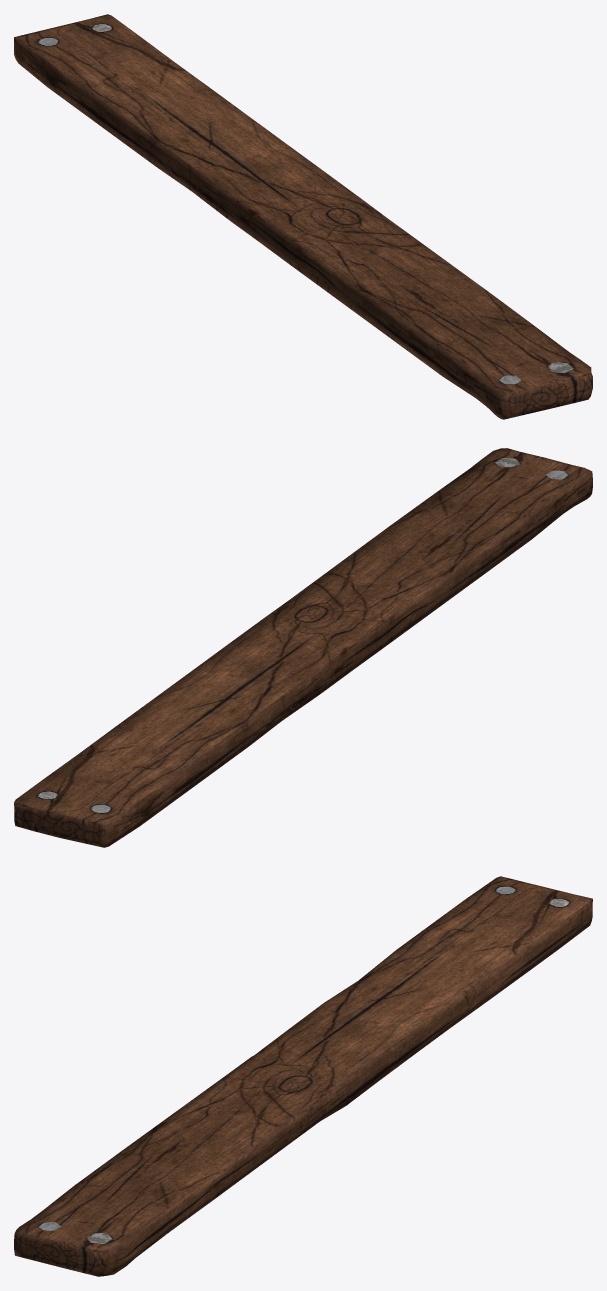
File: wood plank.gltf
3 views of the same model, one above another, from view 1: azimuth 30°, elevation 25°; view 2: azimuth 150°, elevation 25°; view 3: azimuth 330°, elevation 25° (orthographic).
Visible parts, largest first — view 1: node-0; view 2: node-0; view 3: node-0.
Part boxes in pixels (bbox=[...]): node-0: bbox=[14, 14, 592, 419]; node-0: bbox=[14, 448, 592, 847]; node-0: bbox=[14, 876, 592, 1276].
Size of the model in its own units: 232 by 63.47 by 2000.
Materials: 1 (1 with a texture image).
